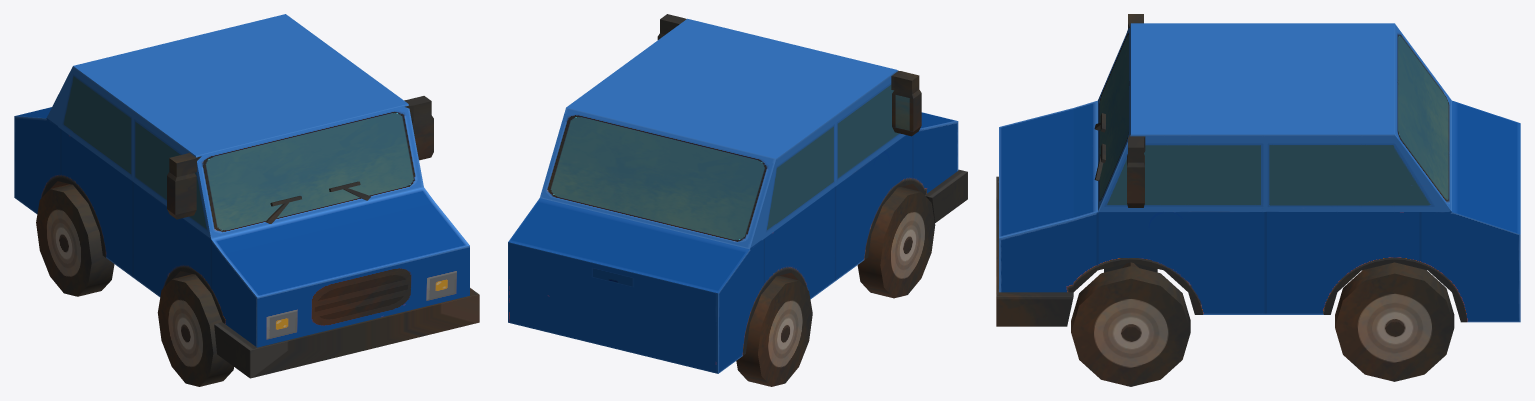
Rendered from CarKit.fbx_Car1.fbx.
The picture shows the model from 3 angles, left to right: view 1: azimuth 30°, elevation 25°; view 2: azimuth 150°, elevation 25°; view 3: azimuth 270°, elevation 25°; orthographic projection. The views are drawn at different scales.
Parts seen in each view (by area): view 1: Car; view 2: Car; view 3: Car.
Boxes of the visible parts, x1=… form: Car: x1=14, y1=14, x2=479, y2=386; Car: x1=508, y1=14, x2=967, y2=386; Car: x1=996, y1=14, x2=1520, y2=386.
Bounding box in the file's own units: 221 × 186 × 362.
Materials: 1 (1 with a texture image).
